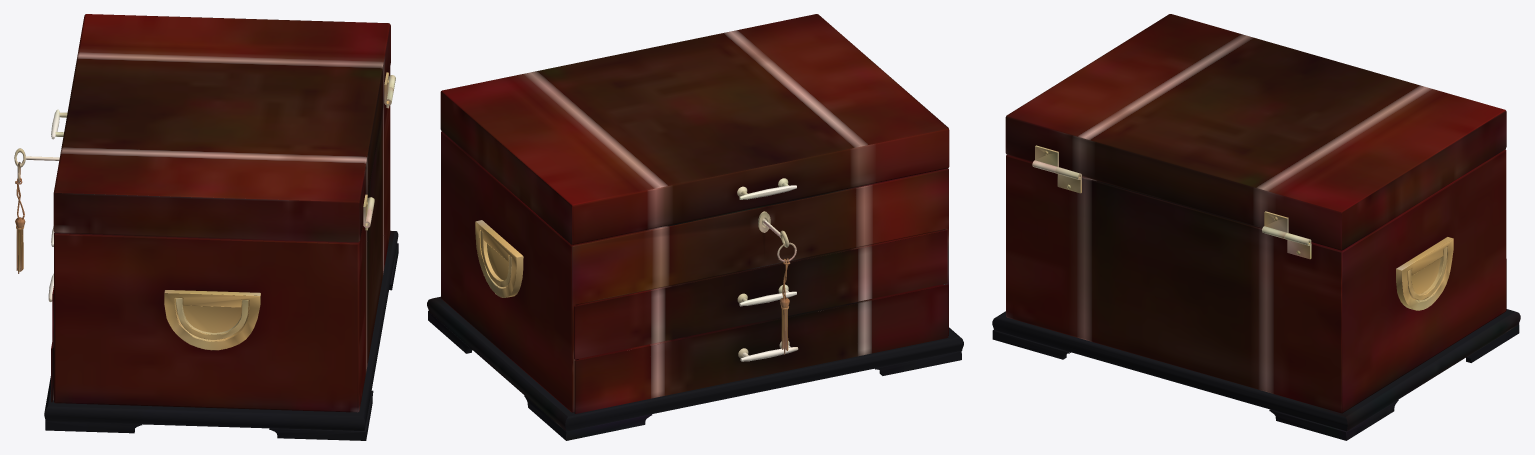
The model's file is obj_jewelry_box_2.glb.
3 renders of one model, left to right at view 1: azimuth 30°, elevation 25°; view 2: azimuth 150°, elevation 25°; view 3: azimuth 270°, elevation 25°, orthographic. The views are drawn at different scales.
Visible parts, largest first — view 1: defaultMaterial; view 2: defaultMaterial; view 3: defaultMaterial.
Part boxes in pixels (<box>): defaultMaterial: <box>14,14,398,440</box>; defaultMaterial: <box>427,14,963,440</box>; defaultMaterial: <box>992,14,1520,440</box>.
Bounding box in the file's own units: 0.6017 × 0.3 × 0.6408.
Materials: 1 (1 with a texture image).
